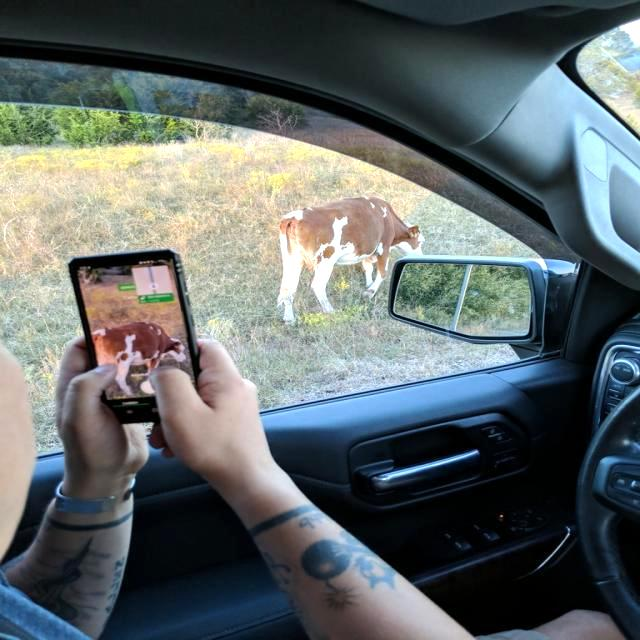COW: (278, 196, 425, 323)
